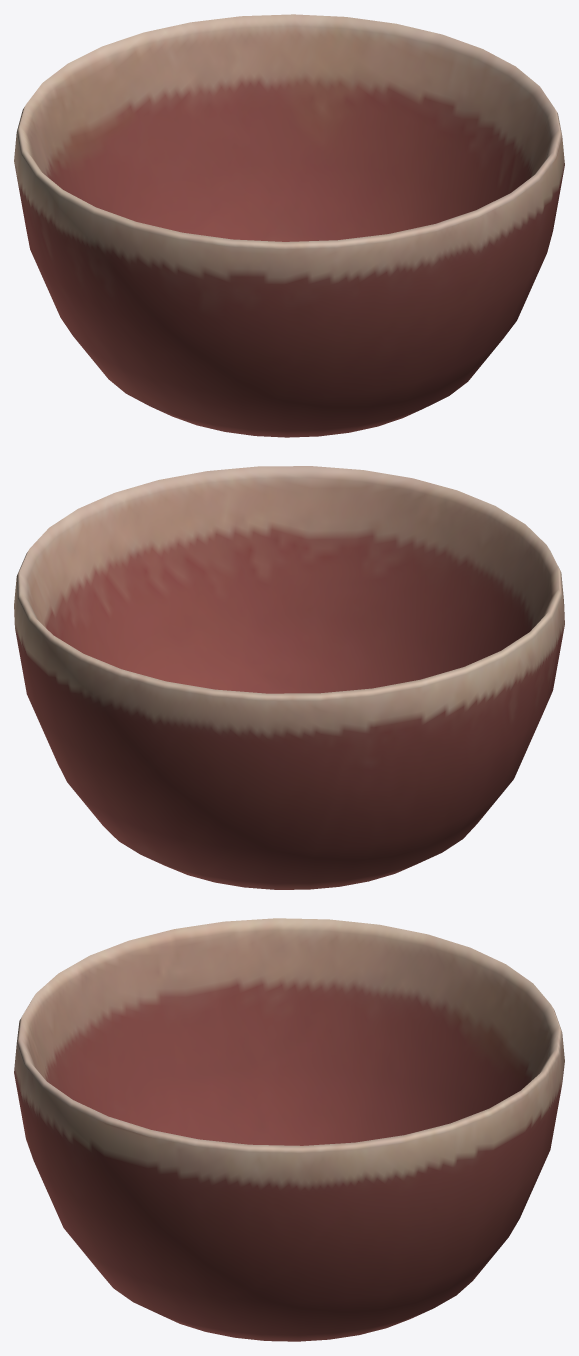
Rendered from SM_Tableware_Bowl_03.fbx.
The picture shows the model from 3 angles, top to bottom: view 1: azimuth 30°, elevation 25°; view 2: azimuth 150°, elevation 25°; view 3: azimuth 270°, elevation 25°; orthographic projection.
Visible parts, largest first — view 1: SM_Tableware_Bowl_03_LOD0; view 2: SM_Tableware_Bowl_03_LOD0; view 3: SM_Tableware_Bowl_03_LOD0.
Part boxes in pixels (x1,y1,x2,y2): SM_Tableware_Bowl_03_LOD0: (14,14,564,437); SM_Tableware_Bowl_03_LOD0: (14,466,564,889); SM_Tableware_Bowl_03_LOD0: (14,918,564,1341).
Size of the model in its own units: 15.79 by 15.79 by 7.86.
Materials: 1 (1 with a texture image).
